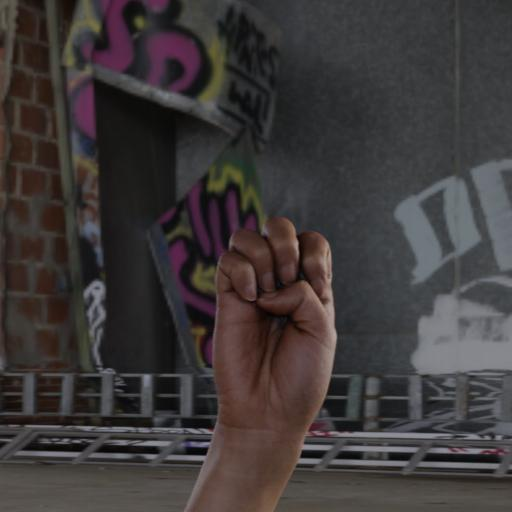E: (182, 194, 358, 464)
